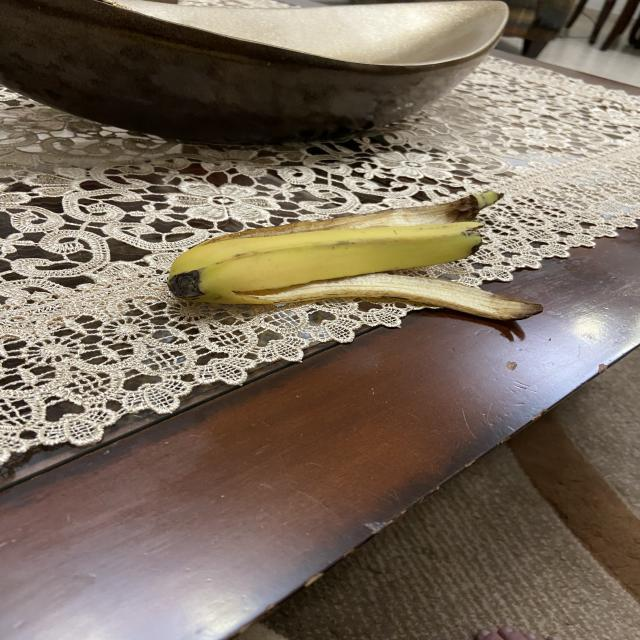banana-peel: (165, 188, 542, 323), (230, 271, 543, 322)
